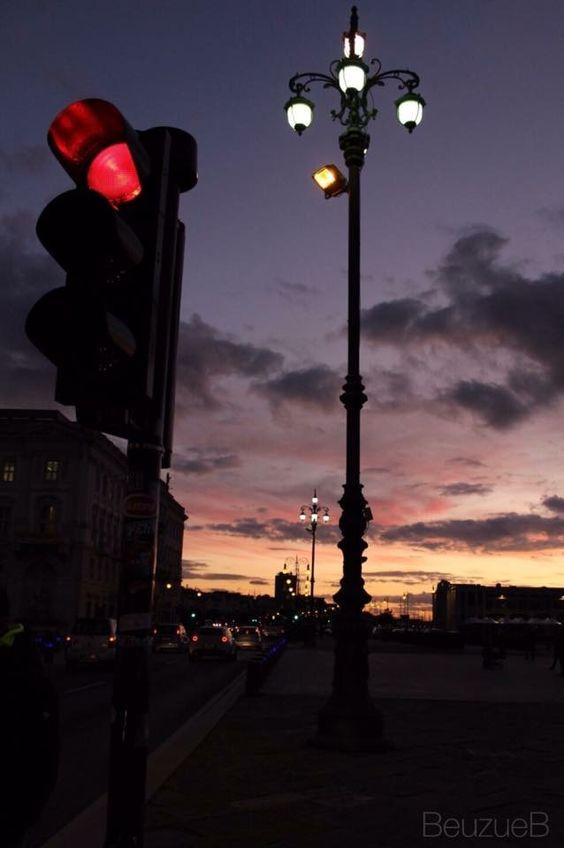red: (10, 100, 200, 420)
